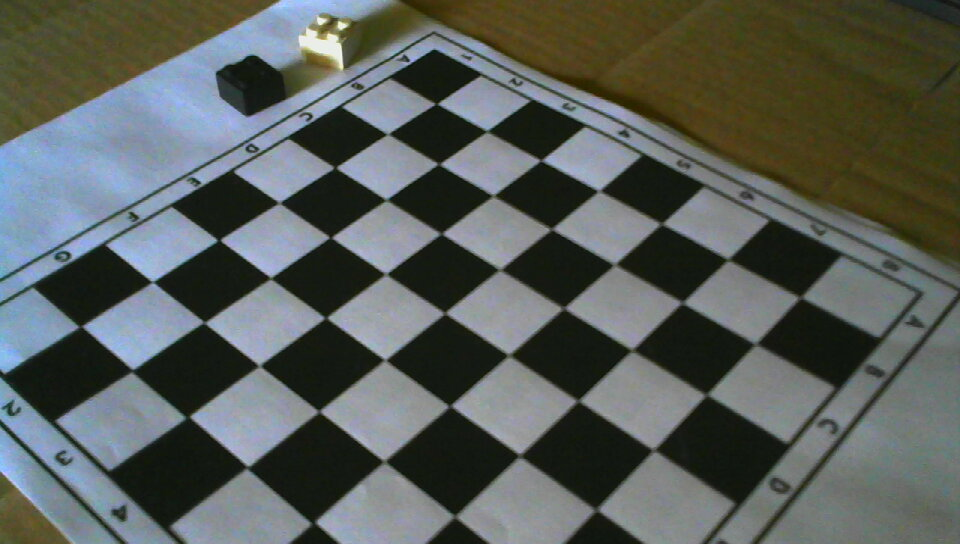bp: (215, 55, 288, 116)
wp: (298, 12, 366, 72)
